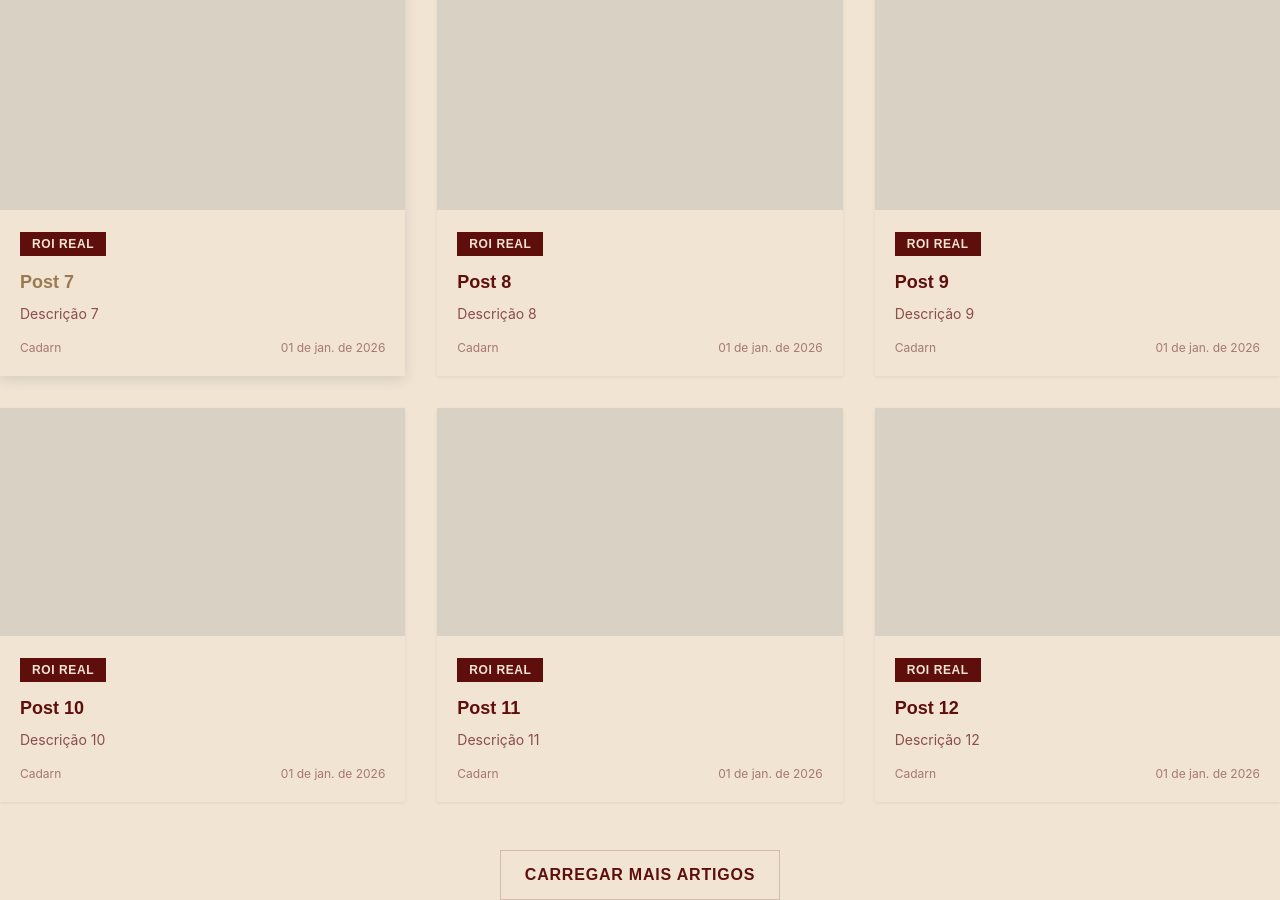
Scenario: BlogFilter › resets to page 1 on category change
(page scrolled)
What coordinates should you click on to do the following:
click the button "Carregar mais artigos"
I would click on:
 (640, 875)
Its box is [500,850,780,899].
(page scrolled)
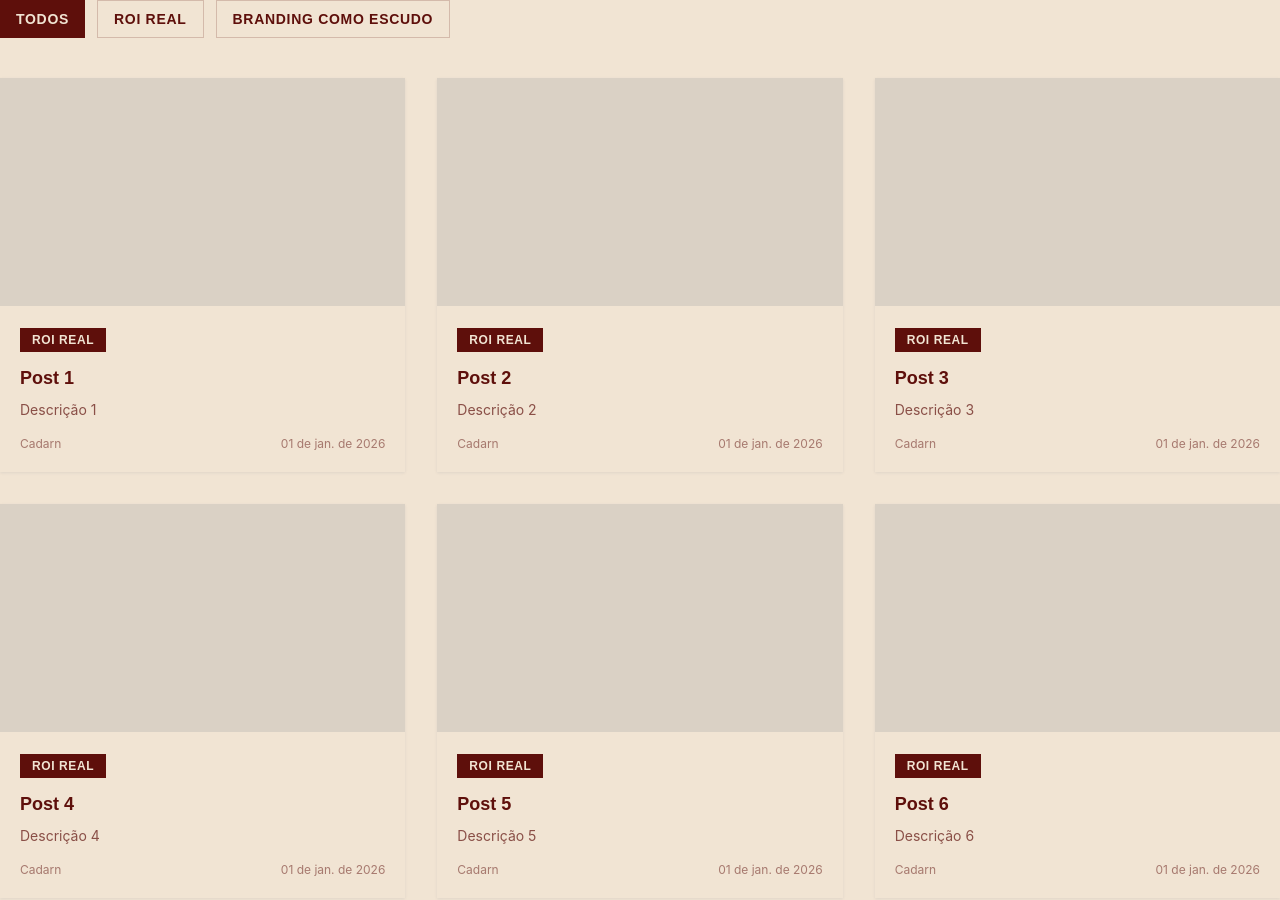
Now the button "Carregar mais" is gone
What coordinates should you click on to do the following:
click the button "Branding como Escudo"
I would click on:
 (333, 19)
Its box is [216,0,450,38].
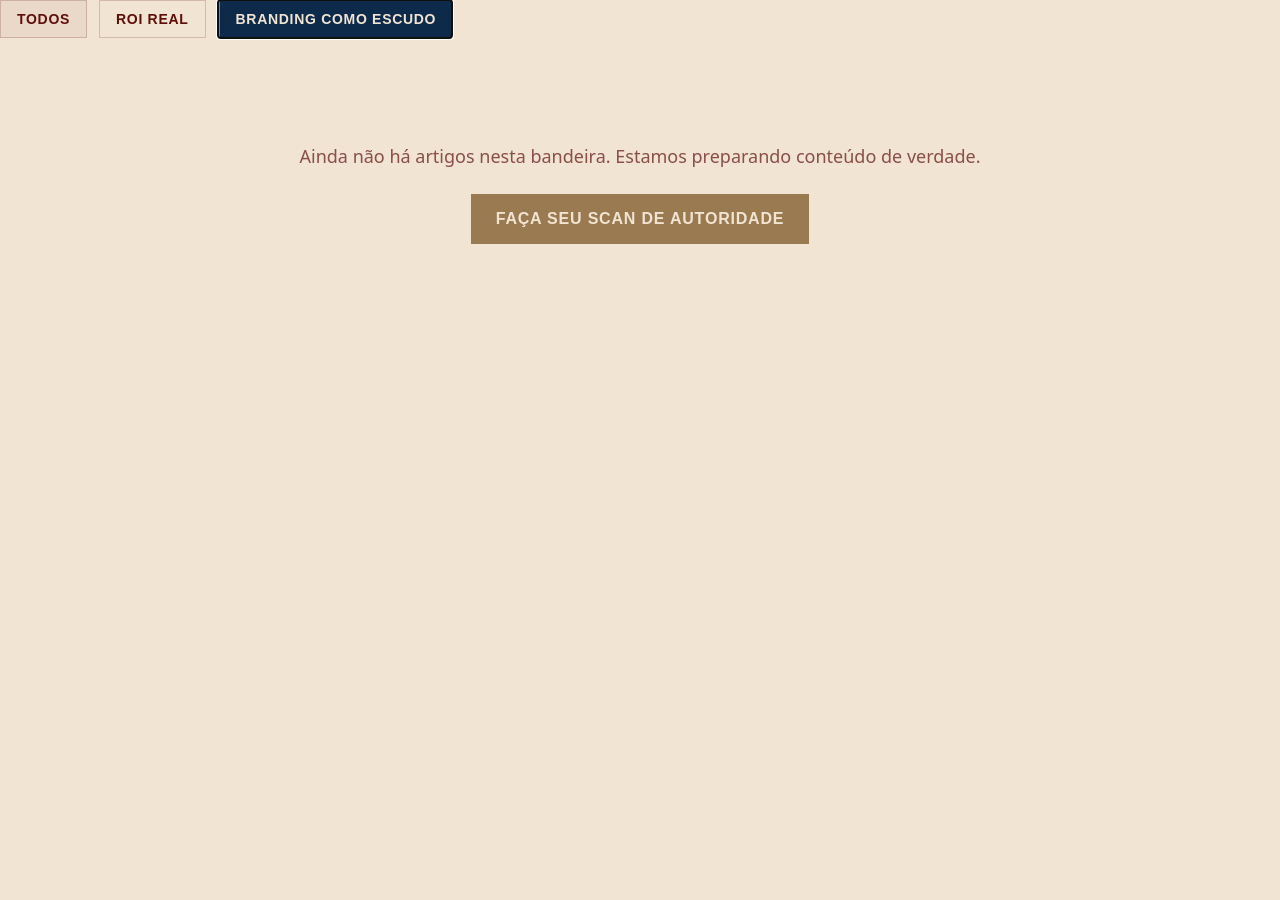
What coordinates should you click on to do the following:
click the button "Todos"
I would click on:
 (44, 19)
Its box is [0,0,87,38].
(page scrolled)
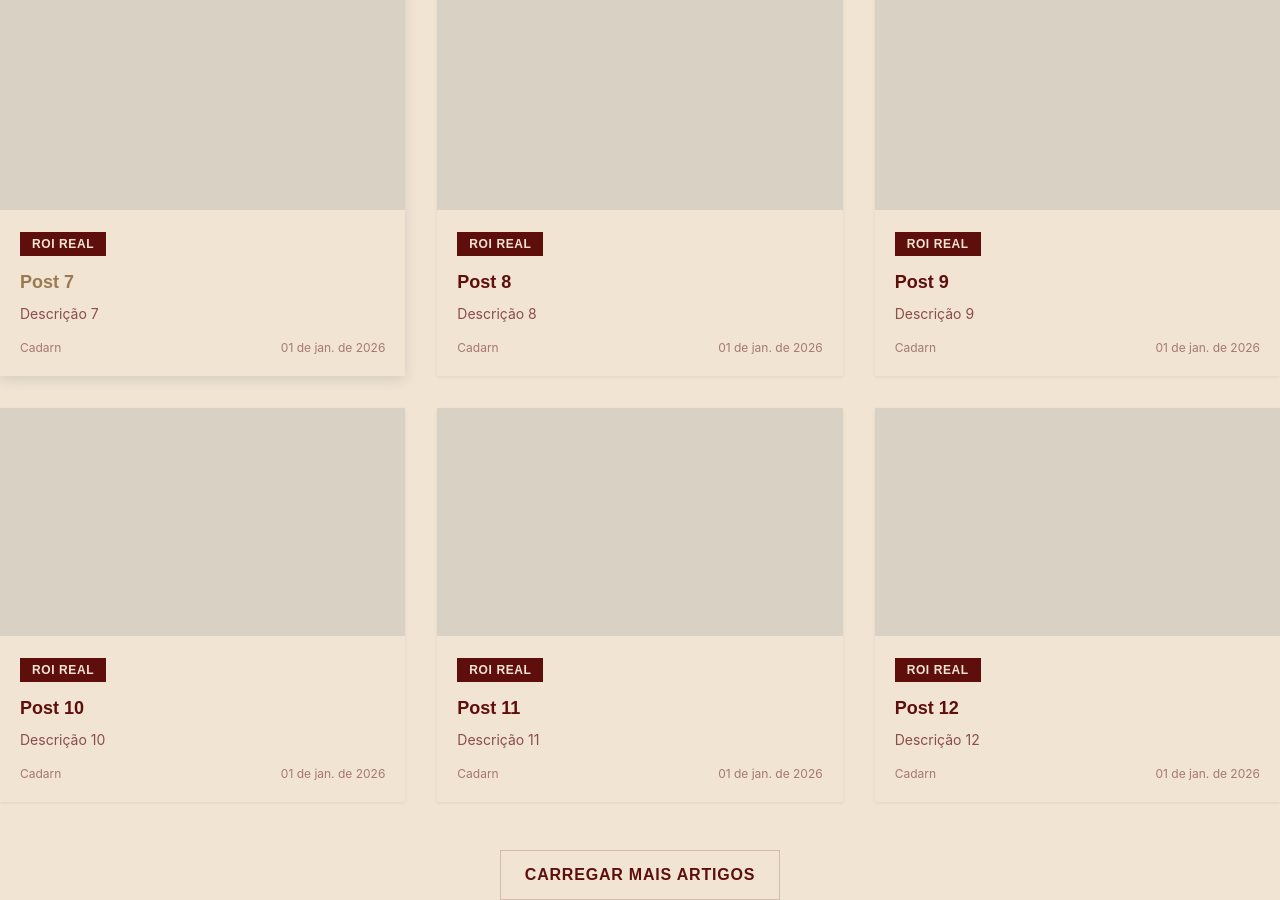
Now the button "Carregar mais artigos" is shown, box [500,850,780,899]
